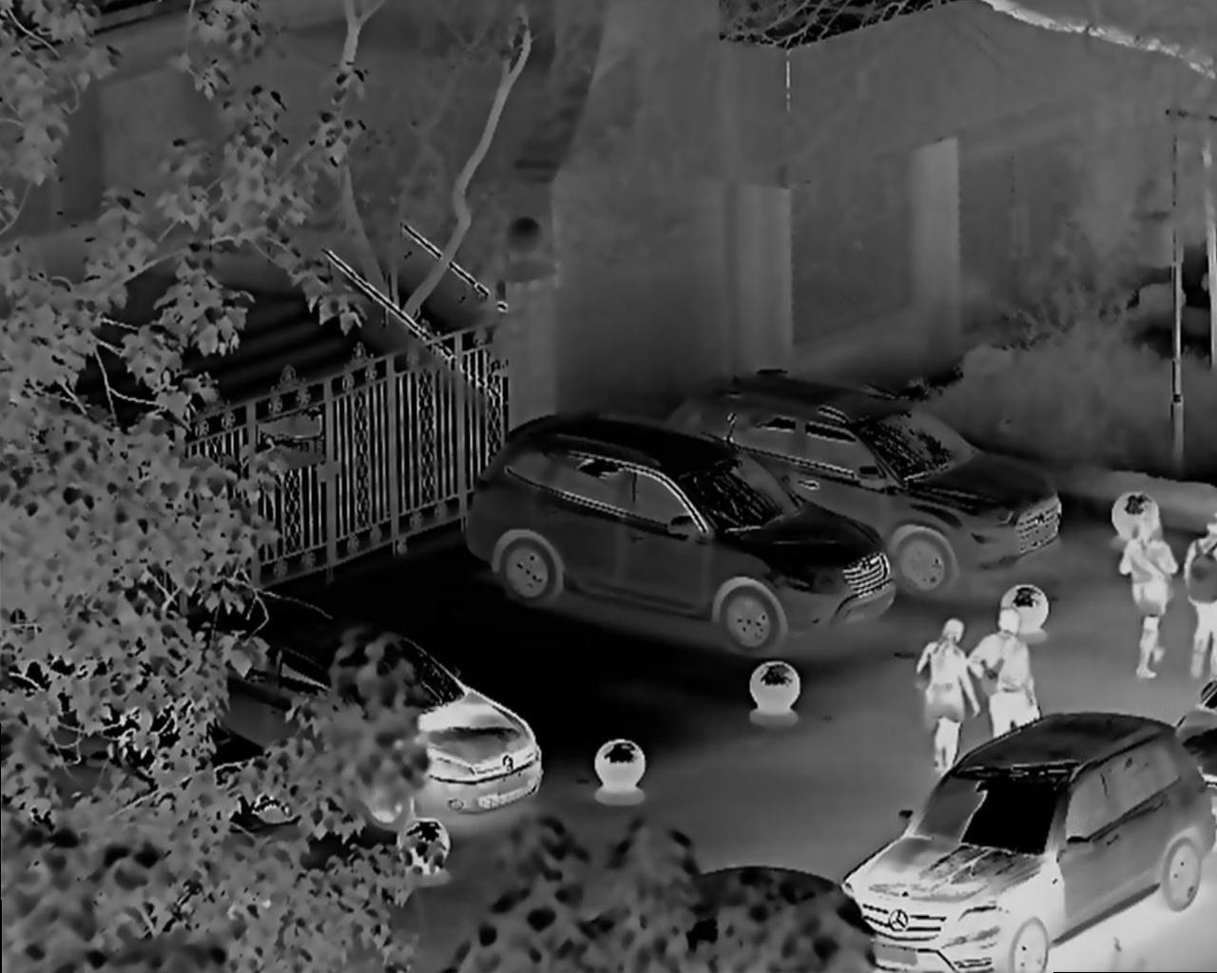person: (1119, 506, 1191, 684), (912, 615, 976, 770), (974, 605, 1045, 739), (1178, 515, 1217, 682)
